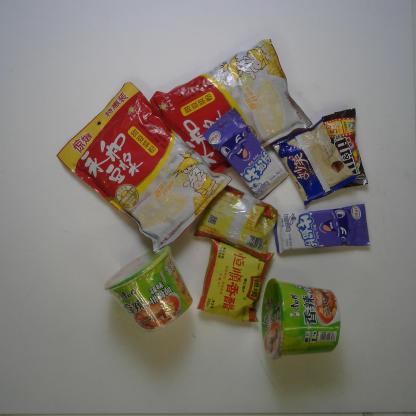Candy: (200, 104, 290, 201), (272, 202, 373, 254)
Chocolate: (318, 105, 370, 191)
Dessert: (268, 116, 360, 208)
Instant Drink: (53, 78, 238, 254), (146, 35, 314, 172)
Instant Noodles: (102, 242, 194, 334), (259, 278, 345, 362)
Seasoner: (195, 233, 278, 325), (191, 179, 282, 261)
